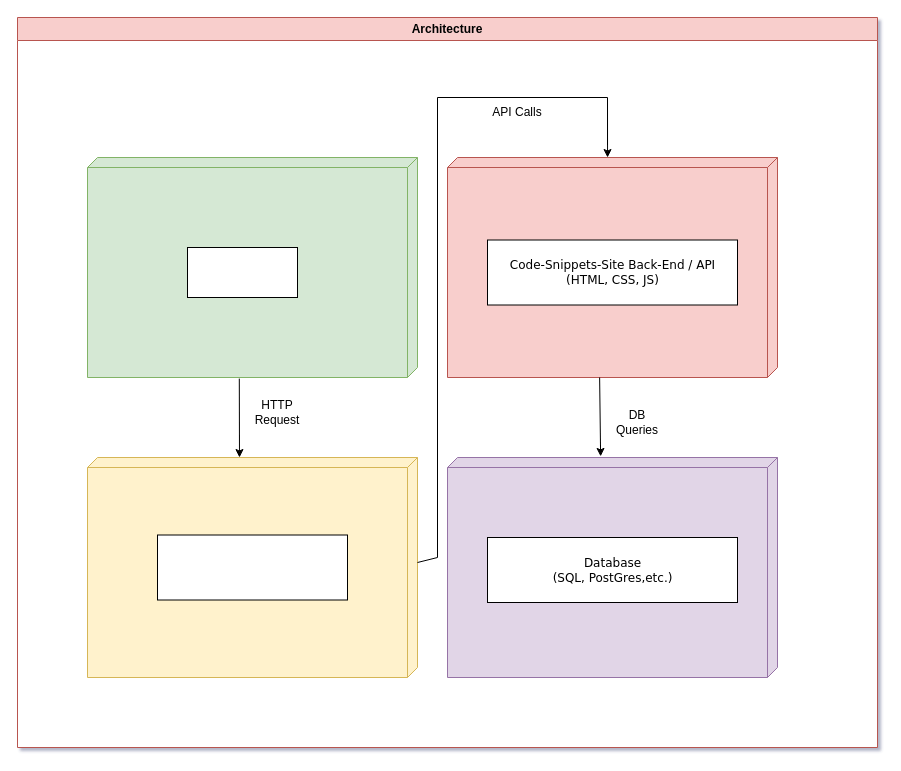
Some shapes in this 901 by 771 pixel diagram are drawn without their labels. The shapes that lost their labels are listed below. From the top down, each one's centre as x and y in pixels, then its label:
the point at 242,272: Web Browser (Visitor/front-end
the point at 252,567: Code-Snippets-Site UI (HTML, CSS, JS)
